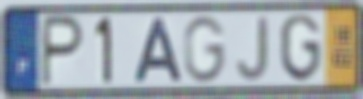1: (93, 16, 114, 86)
A: (130, 16, 186, 85)
G: (277, 12, 324, 84), (181, 14, 228, 85)
J: (235, 15, 271, 84)
P: (39, 13, 86, 90)
